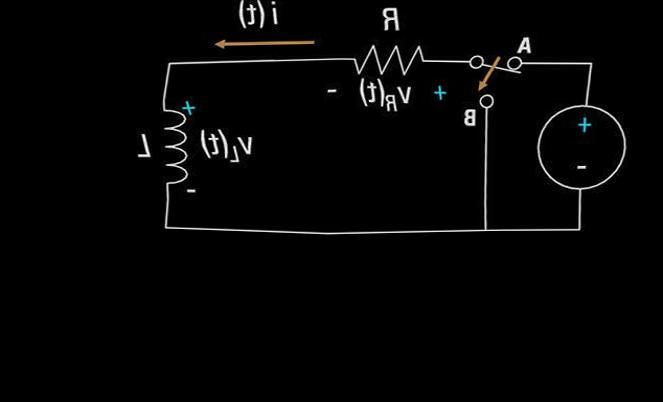Battery: (524, 94, 635, 203)
